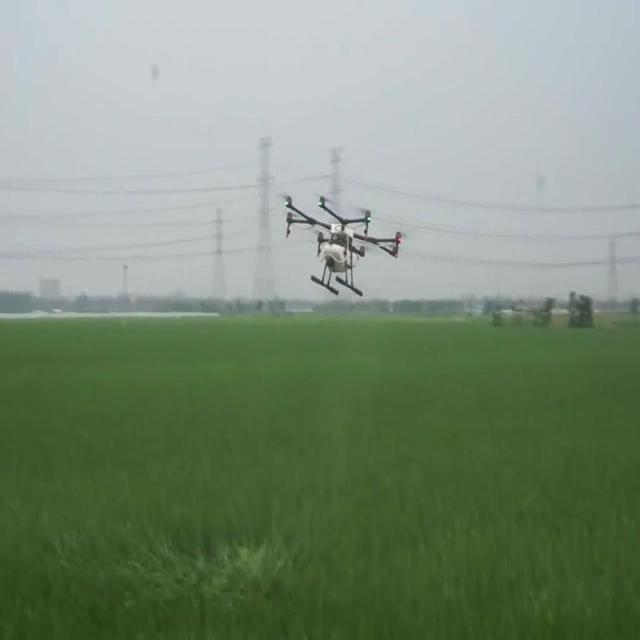drone: (283, 189, 402, 302)
